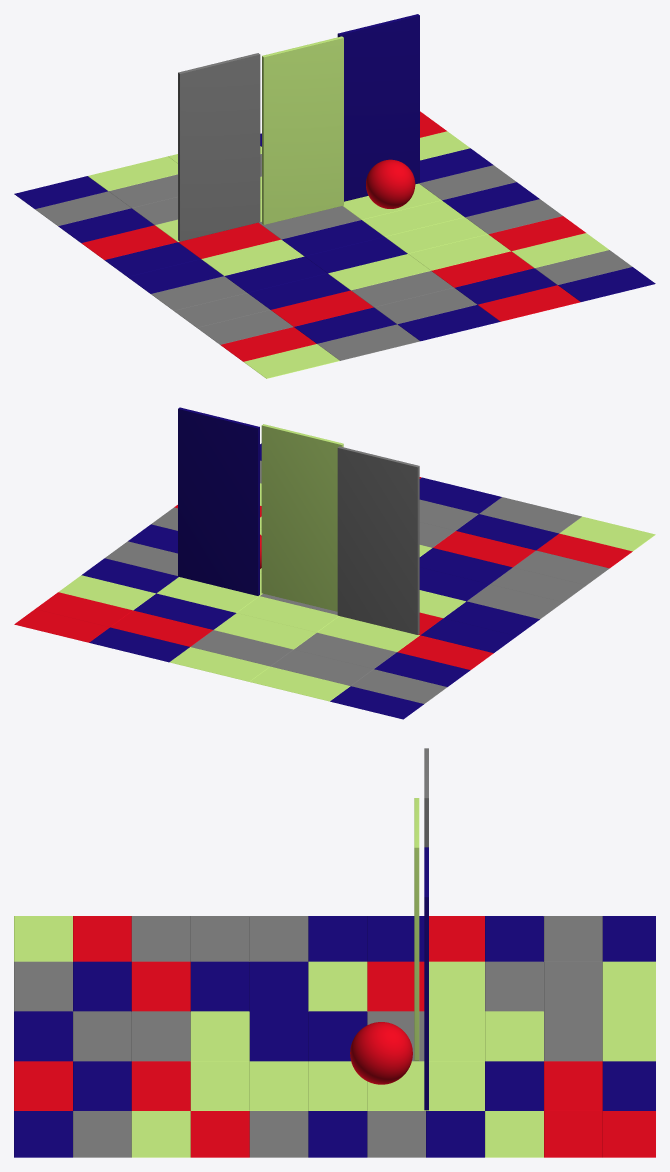
File: Collection Marble 78.FBX
The picture shows the model from 3 angles, top to bottom: view 1: azimuth 30°, elevation 25°; view 2: azimuth 150°, elevation 25°; view 3: azimuth 270°, elevation 25°; orthographic projection. The views are drawn at different scales.
Visible parts, largest first — view 1: Floor, Slab03, Slab01, Slab02, Sphere; view 2: Floor, Slab03, Slab02, Slab01; view 3: Floor, Sphere, Slab01, Slab02.
Boxes of the visible parts, bbox=[...] form: Floor: bbox=[14, 111, 655, 378]; Slab03: bbox=[178, 53, 260, 241]; Slab01: bbox=[262, 36, 343, 224]; Slab02: bbox=[337, 14, 419, 201]; Sphere: bbox=[366, 159, 415, 208]; Floor: bbox=[14, 443, 655, 719]; Slab03: bbox=[337, 446, 419, 634]; Slab02: bbox=[178, 407, 259, 595]; Slab01: bbox=[261, 424, 343, 611]; Floor: bbox=[14, 916, 655, 1157]; Sphere: bbox=[350, 1022, 412, 1084]; Slab01: bbox=[414, 798, 419, 1060]; Slab02: bbox=[424, 847, 428, 1110].
Size of the model in its own units: 582 by 241 by 654.
